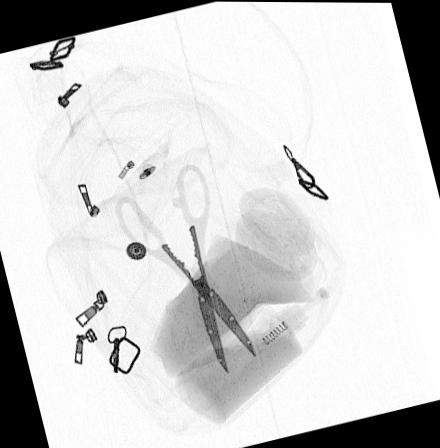Scissors: (111, 161, 257, 374)
